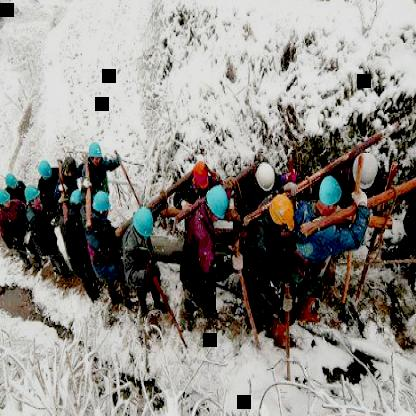helmet: (264, 191, 298, 242), (314, 170, 344, 218), (348, 149, 379, 191), (202, 185, 228, 223), (132, 204, 154, 242), (252, 161, 275, 193), (88, 189, 111, 220), (190, 158, 210, 190), (34, 158, 54, 184), (22, 182, 42, 206), (86, 138, 102, 168), (5, 170, 20, 192), (0, 188, 12, 212)
